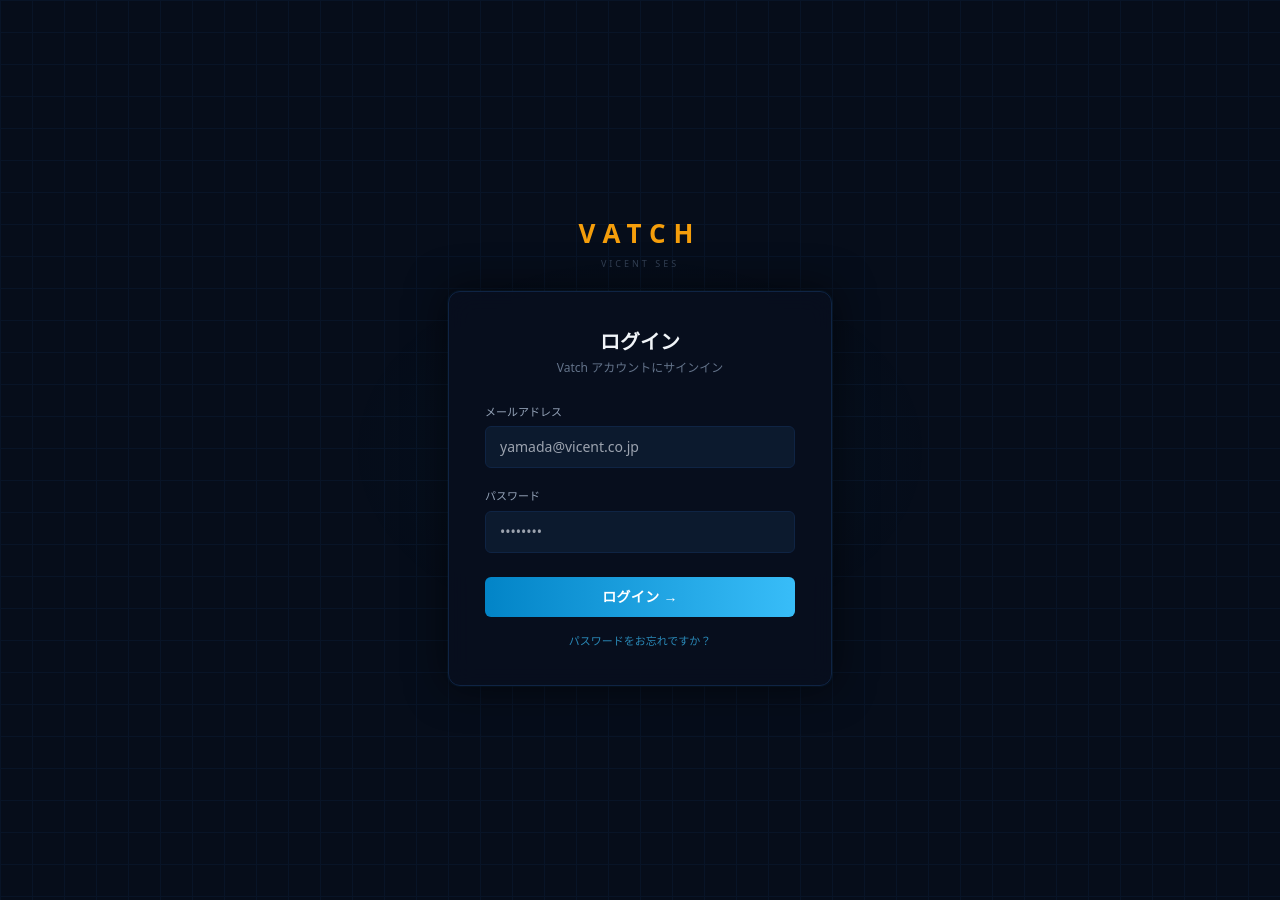
Test: パスワード未入力でサブミットするとエラーが表示される
Type "test@example.com" into the field with placeholder "yamada@vicent.co.jp" at (640, 447), box [485,426,795,468]
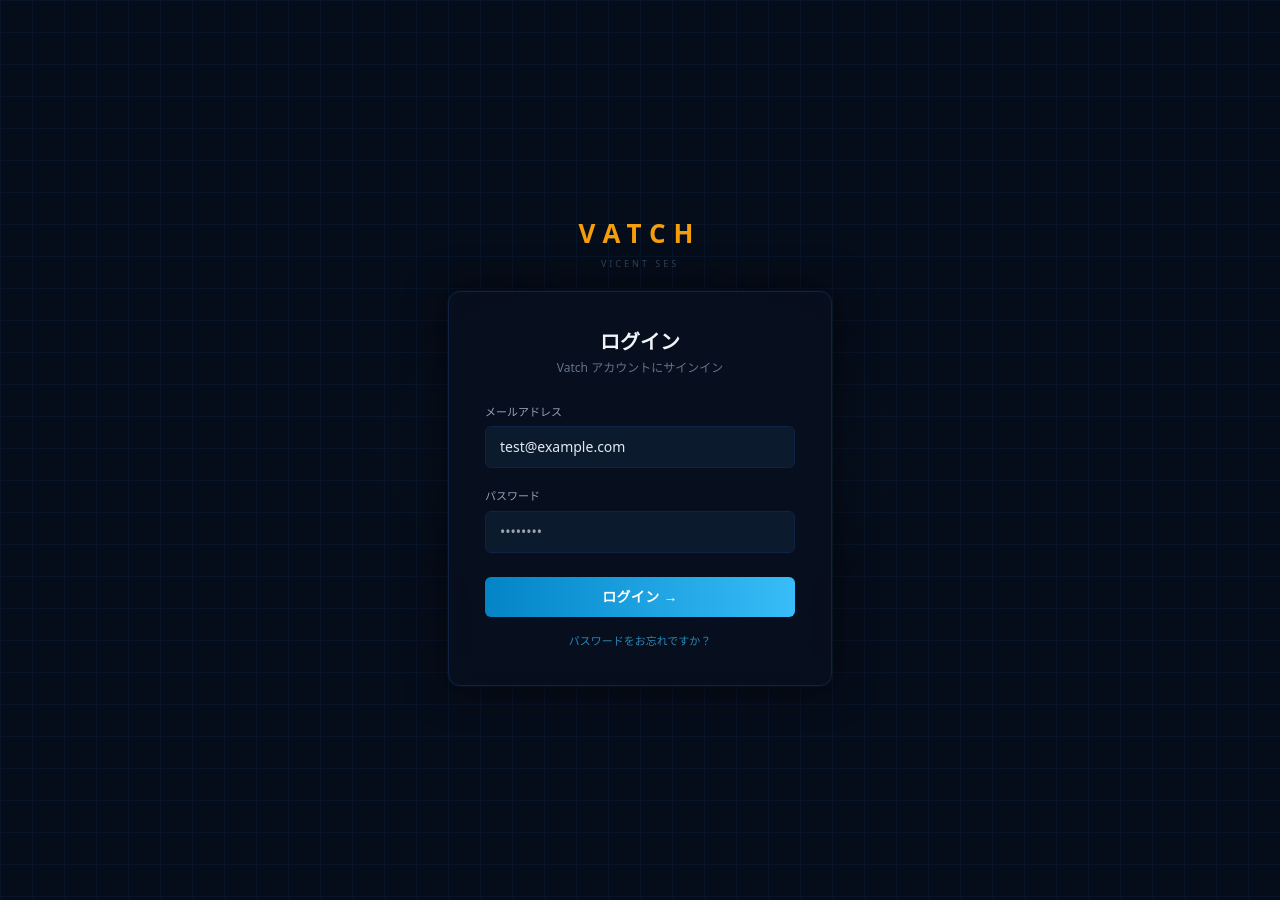
Click the button "ログイン →" at (640, 596), box [485,576,795,616]
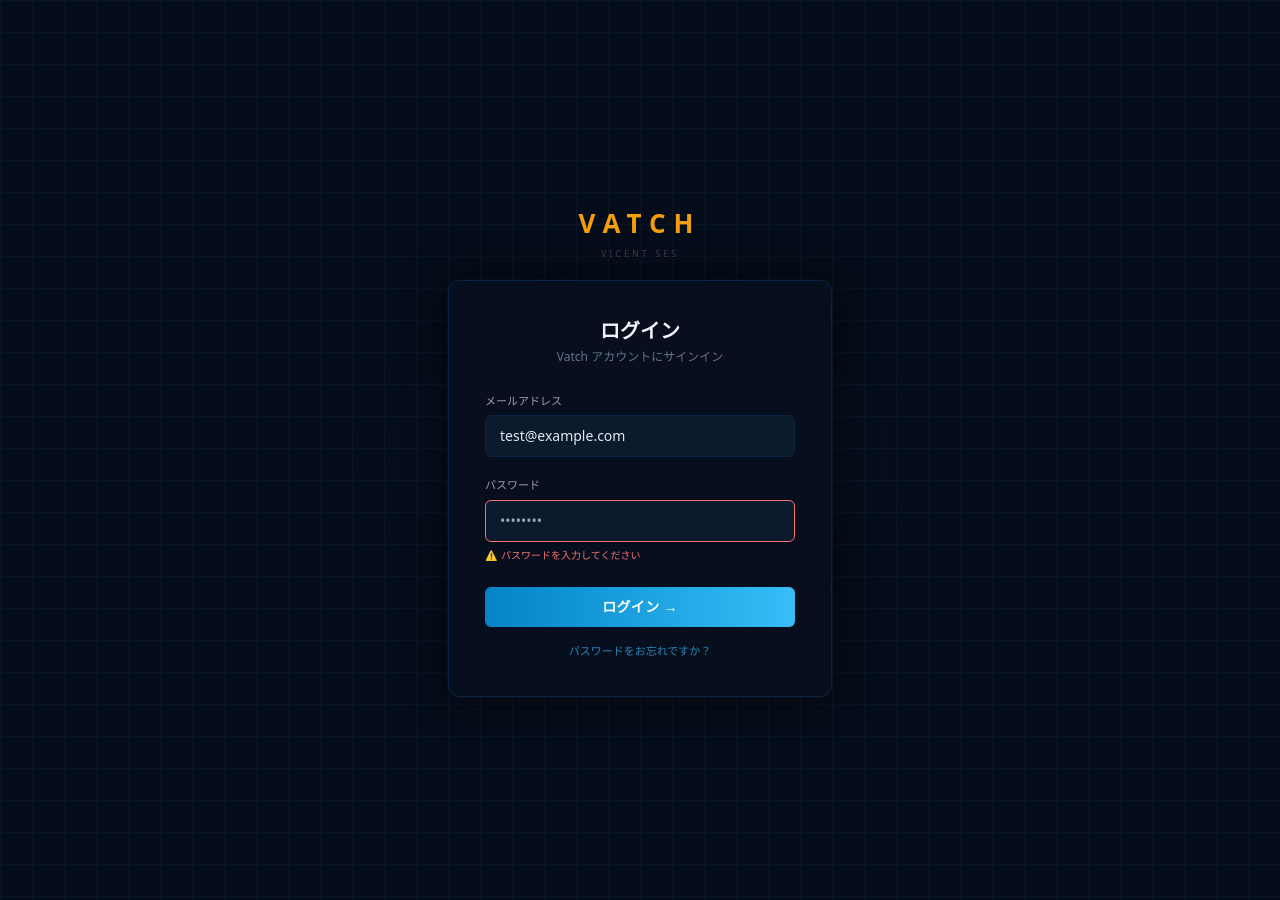
Expected: the text "パスワードを入力してください" is shown, [501,548,640,563]
